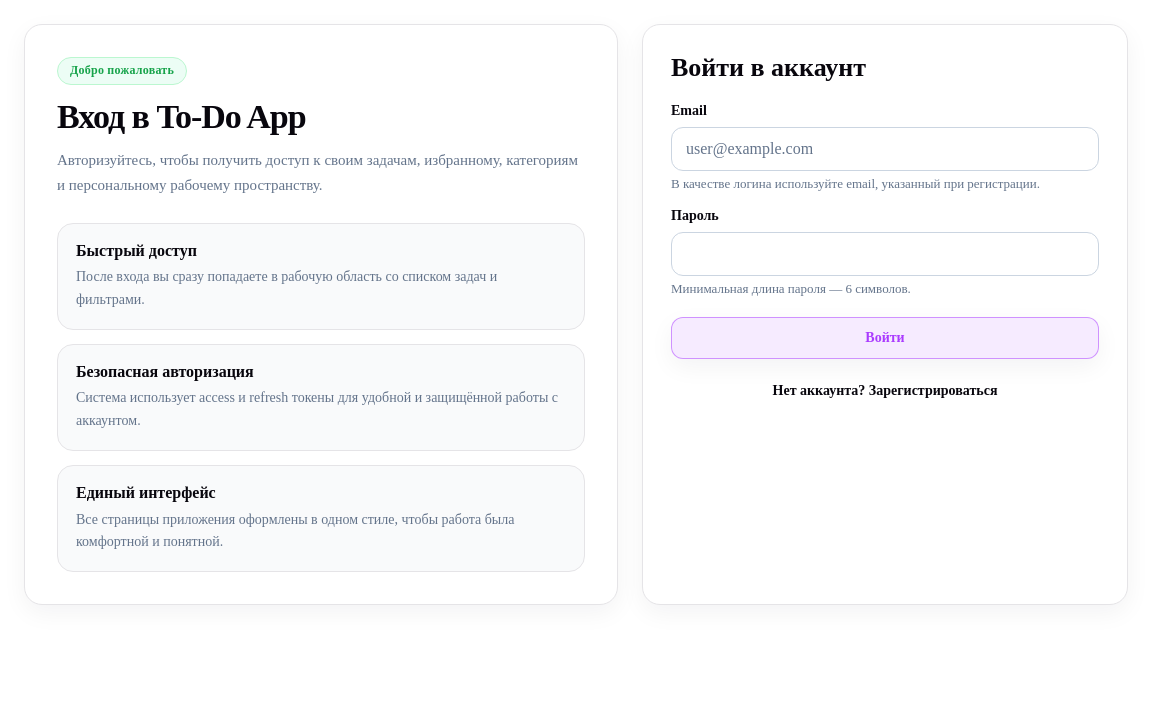
Test case: Login Page › успешная регистрация переключает на форму входа и показывает сообщение
Click the button "Нет аккаунта? Зарегистрироваться". click: coordinates (885, 388)
box: [671,377,1099,399]
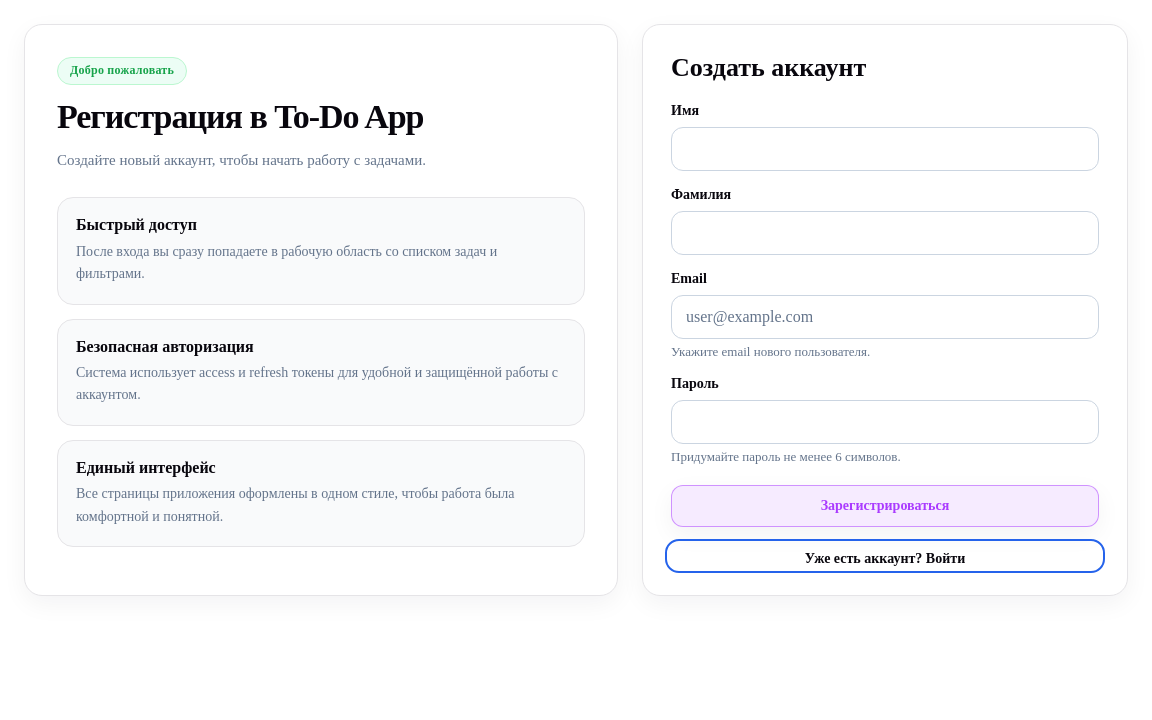
Type "John" into the field labelled "Имя". click: coordinates (885, 149)
box: [671,127,1099,171]
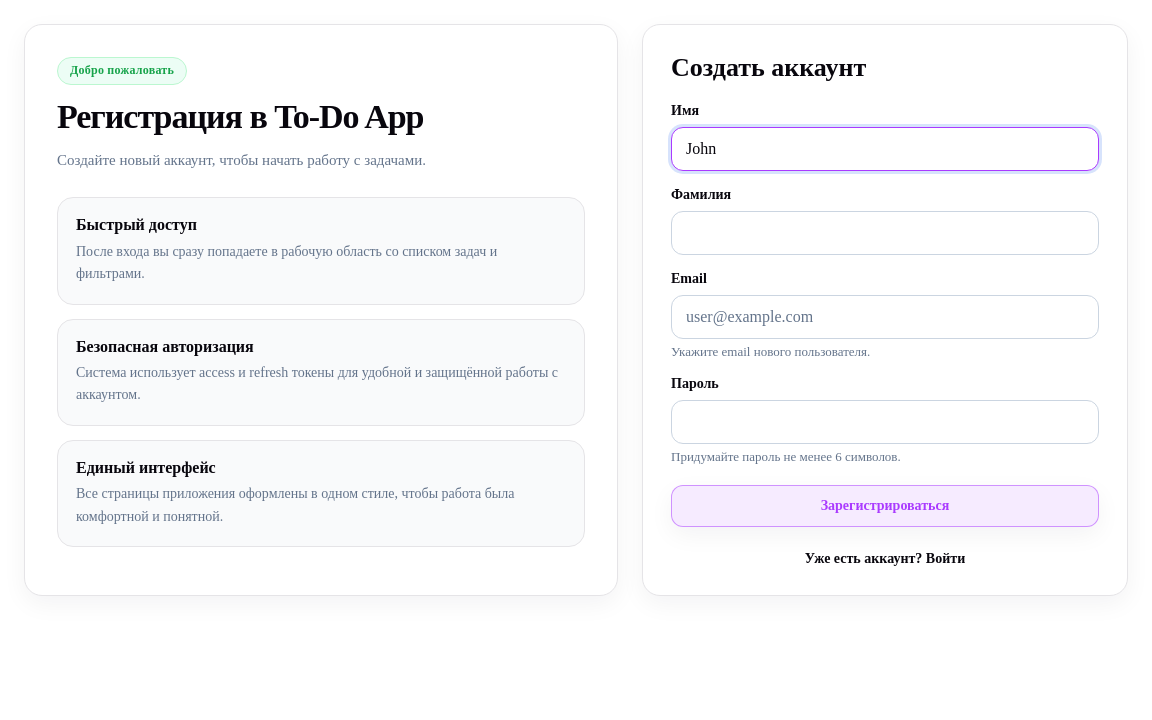
Type "Doe" into the field labelled "Фамилия". click: coordinates (885, 233)
box: [671,211,1099,255]
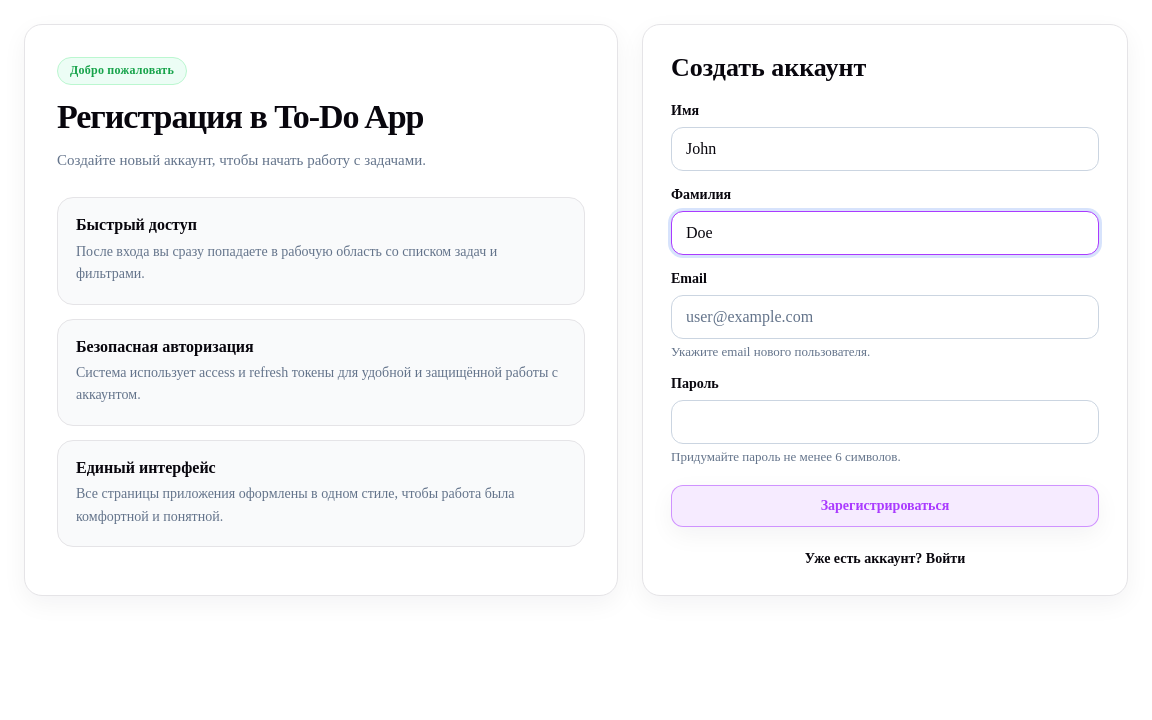
Type "newuser@example.com" into the field labelled "Email". click: coordinates (885, 317)
box: [671,295,1099,339]
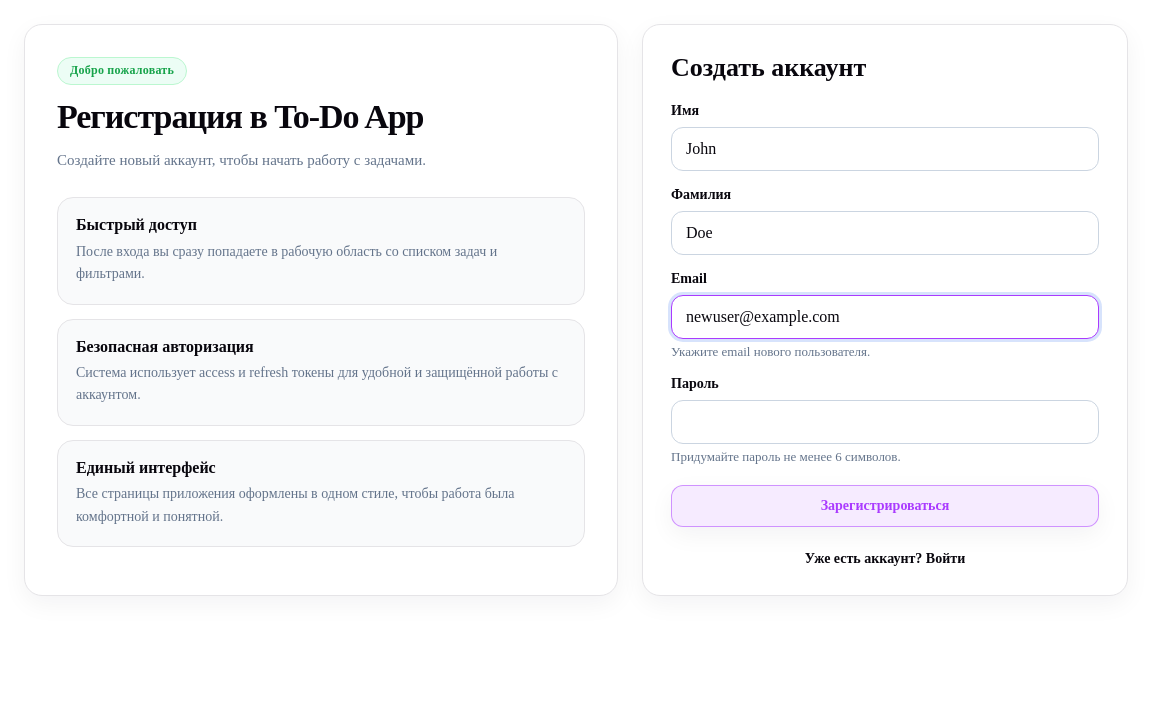
Type "newpassword123" into the password field labelled "Пароль". click: coordinates (885, 422)
box: [671,400,1099,444]
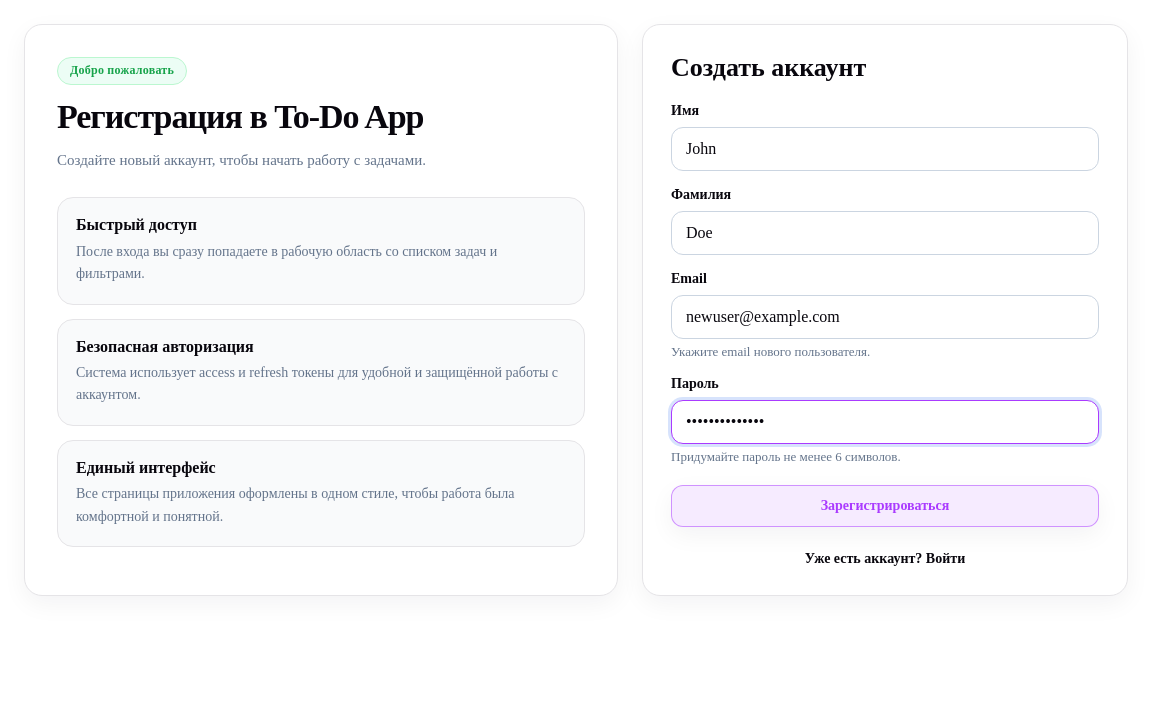
Click the button "Зарегистрироваться". click: coordinates (885, 506)
box: [671,485,1099,527]
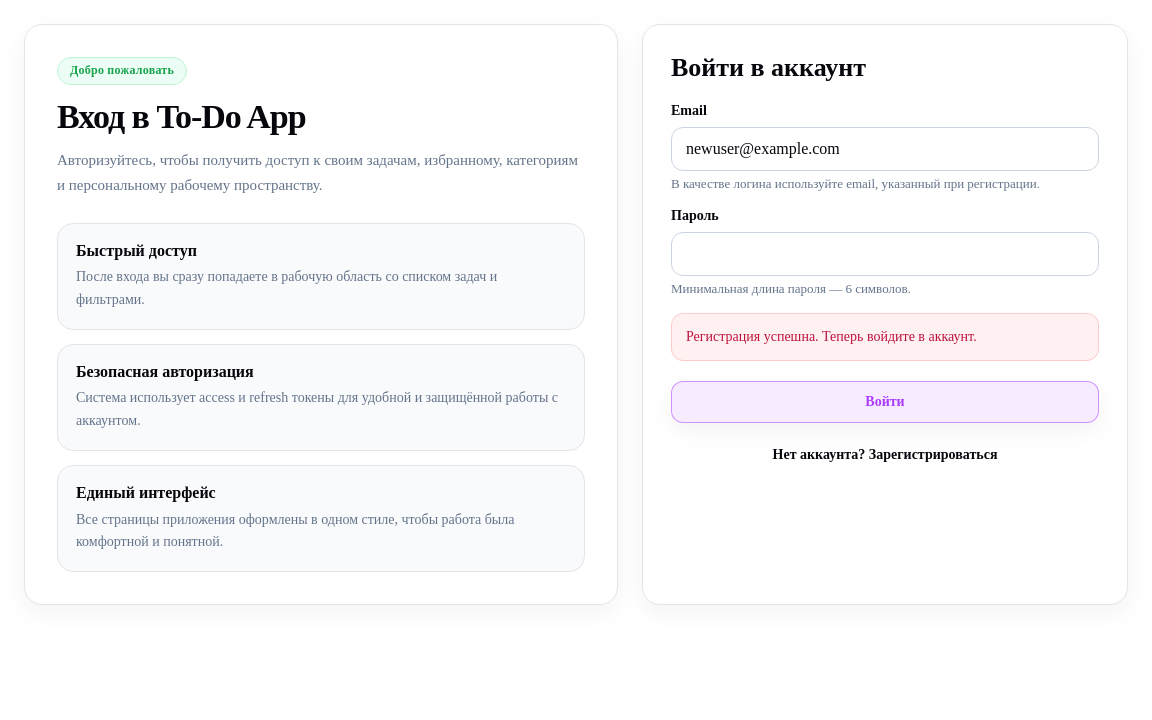
Result: the heading "Вход в To-Do App" is shown at [57,98,306,135]
Result: the message reads "Регистрация успешна. Теперь войдите в аккаунт." at [686,329,977,344]
Result: the password field labelled "Пароль" is empty at [671,232,1099,276]
